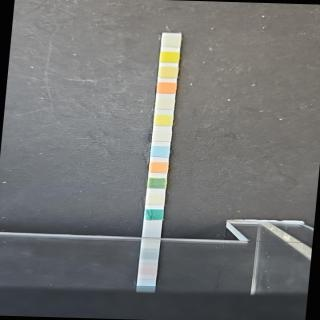mark: (157, 81, 176, 95), (161, 36, 181, 48), (158, 67, 178, 79), (156, 98, 176, 110), (146, 193, 164, 206), (160, 52, 180, 63), (152, 130, 170, 142), (152, 146, 170, 158), (150, 162, 168, 174), (148, 177, 166, 189), (145, 210, 163, 222), (154, 115, 172, 126)
